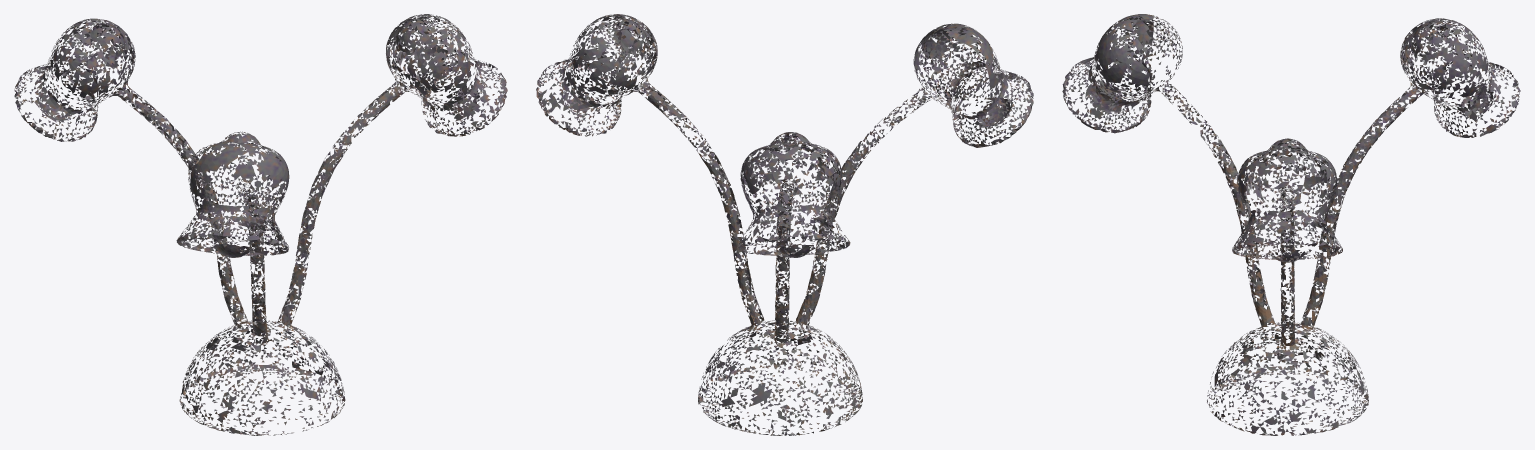
Rendered from lamp_final500.obj.
3 views of the same model, side by side, from view 1: azimuth 30°, elevation 25°; view 2: azimuth 150°, elevation 25°; view 3: azimuth 270°, elevation 25° (orthographic).
Bounding box in the file's own units: 1.59 × 1.32 × 1.62.
